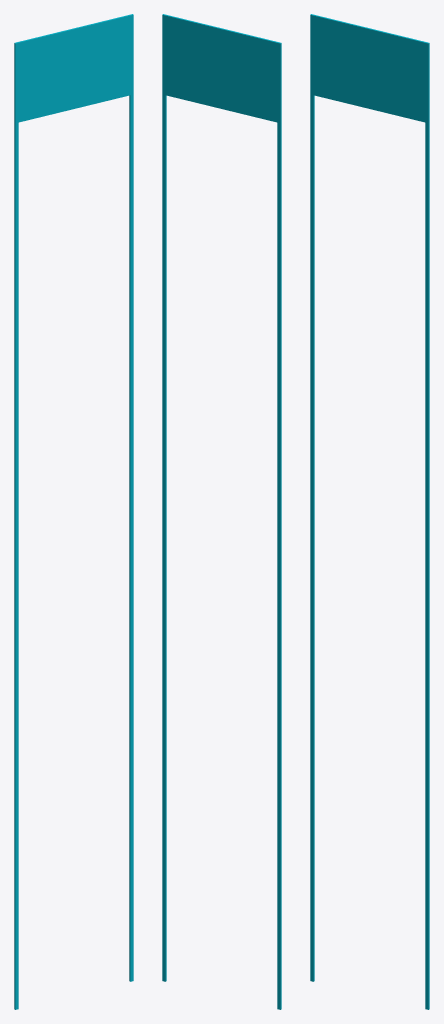
File: marker2_blue_LOD1.gltf
3 renders of one model, left to right at view 1: azimuth 30°, elevation 25°; view 2: azimuth 150°, elevation 25°; view 3: azimuth 330°, elevation 25°, orthographic.
Visible parts, largest first — view 1: Box001; view 2: Box001; view 3: Box001.
Part boxes in pixels (<box>): Box001: <box>14,14,133,1009</box>; Box001: <box>162,14,281,1009</box>; Box001: <box>310,14,429,1009</box>.
Size of the model in its own units: 0.7 by 5.45 by 0.01.
